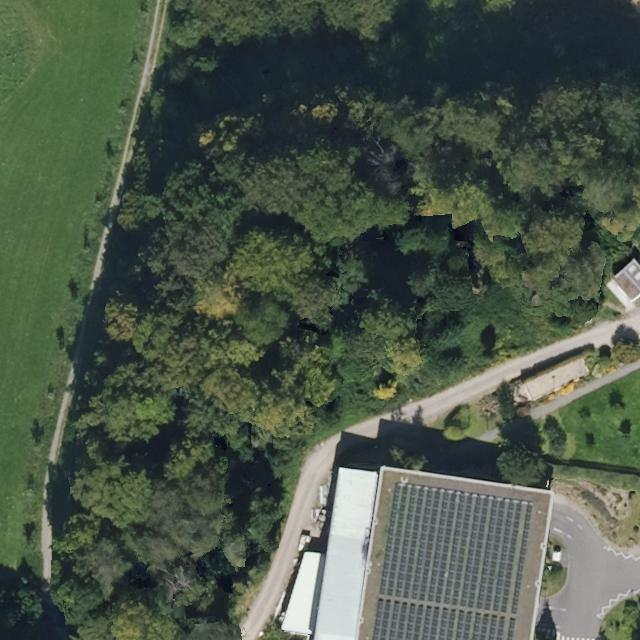PV: (362, 476, 541, 639)
